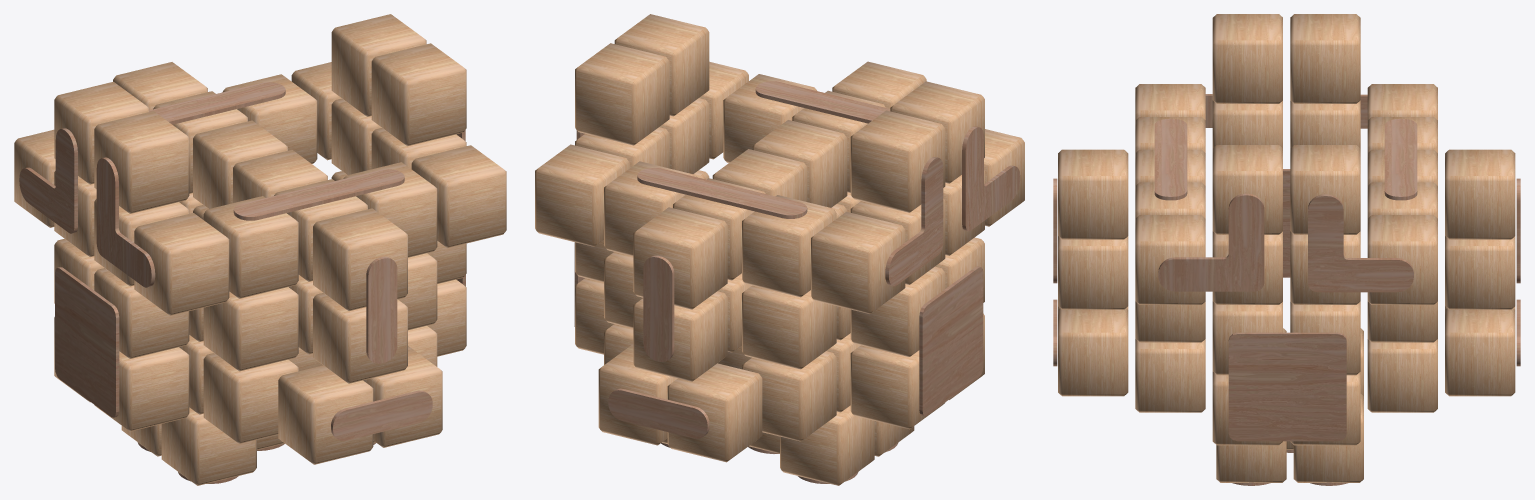
The model's file is level_75.fbx.
3 renders of one model, left to right at view 1: azimuth 30°, elevation 25°; view 2: azimuth 150°, elevation 25°; view 3: azimuth 270°, elevation 25°, orthographic. The views are drawn at different scales.
Parts seen in each view (by area): view 1: Cube.014, Cube.040, obj_obs_square.001, Cube.010, Cube.047, Cube.044, Cube.097, Cube.066, Cube.041, Cube.091, Cube.085, Cube.072 (+32 smaller); view 2: Cube.075, Cube.030, obj_obs_square.001, Cube.050, Cube.027, Cube.034, Cube.077, Cube.056, Cube.031, Cube.081, Cube.105, Cube.052 (+32 smaller); view 3: obj_obs_square.002, Cube.027, Cube.047, Cube.050, Cube.010, Cube.078, Cube.098, obj_obs_L.003, obj_obs_L.004, Cube.075, Cube.052, Cube.072 (+30 smaller).
Boxes of the visible parts, x1,y1,x2,y2 form: Cube.014: (371, 43, 466, 146); Cube.040: (134, 213, 229, 315); obj_obs_square.001: (55, 267, 119, 417); Cube.010: (94, 111, 189, 213); Cube.047: (313, 208, 407, 311); Cube.044: (411, 145, 506, 247); Cube.097: (278, 365, 373, 464); Cube.066: (203, 287, 298, 371); Cube.041: (203, 196, 298, 298); Cube.091: (203, 353, 298, 443); Cube.085: (94, 347, 189, 431); Cube.072: (313, 293, 407, 383); Cube.075: (575, 43, 669, 145); Cube.030: (811, 211, 905, 313); obj_obs_square.001: (919, 266, 983, 416); Cube.050: (850, 110, 945, 212); Cube.027: (633, 207, 727, 309); Cube.034: (535, 144, 629, 246); Cube.077: (667, 363, 762, 462); Cube.056: (742, 285, 836, 369); Cube.031: (742, 195, 836, 297); Cube.081: (742, 351, 836, 441); Cube.105: (850, 345, 944, 429); Cube.052: (633, 291, 727, 381); obj_obs_square.002: (1228, 332, 1346, 441); Cube.027: (1445, 149, 1515, 239); Cube.047: (1058, 149, 1128, 239); Cube.050: (1290, 14, 1360, 103); Cube.010: (1212, 14, 1282, 103); Cube.078: (1445, 308, 1515, 396); Cube.098: (1058, 308, 1128, 396); obj_obs_L.003: (1158, 193, 1264, 291); obj_obs_L.004: (1308, 194, 1413, 292); Cube.075: (1290, 145, 1360, 234); Cube.052: (1445, 236, 1515, 309); Cube.072: (1058, 236, 1128, 309).
Size of the model in its own units: 11.13 by 10.9 by 13.27.
